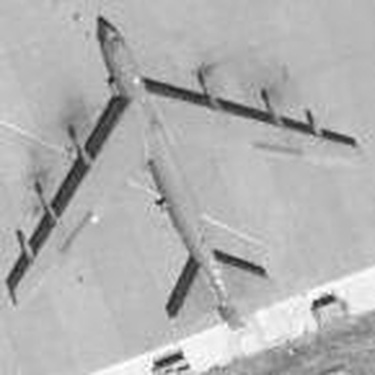airplane: (4, 5, 368, 350)
